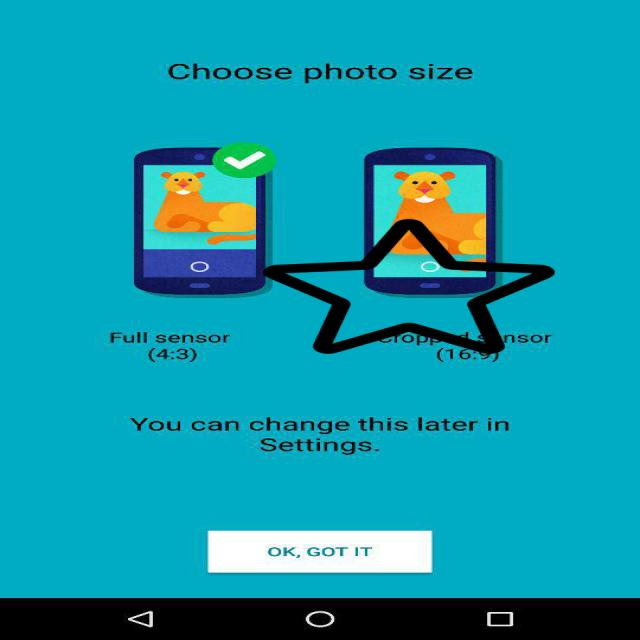forced continuity: (263, 216, 555, 357)
